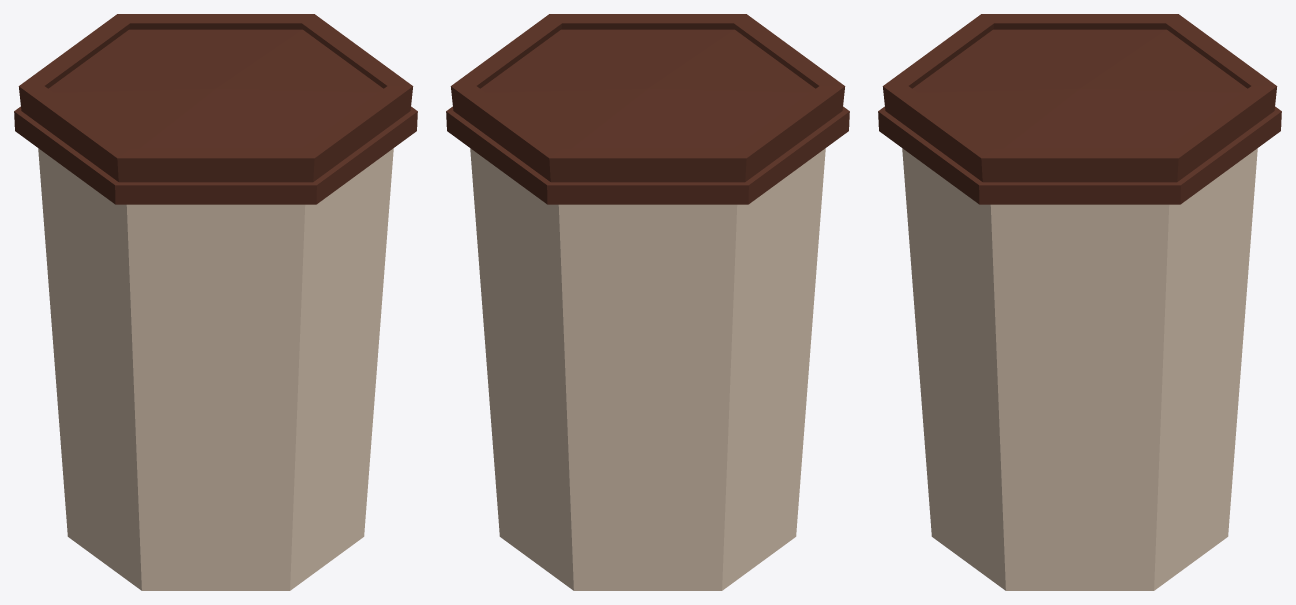
Rendered from Cup_of_coffe_out1.fbx.
3 views of the same model, side by side, from view 1: azimuth 30°, elevation 25°; view 2: azimuth 150°, elevation 25°; view 3: azimuth 270°, elevation 25° (orthographic).
Visible parts, largest first — view 1: Cup of Coffe.013; view 2: Cup of Coffe.013; view 3: Cup of Coffe.013.
Boxes of the visible parts, x1,y1,x2,y2 form: Cup of Coffe.013: (14,14,417,590); Cup of Coffe.013: (446,14,849,590); Cup of Coffe.013: (878,14,1281,590).
Bounding box in the file's own units: 0.0981 × 0.1395 × 0.1132.
